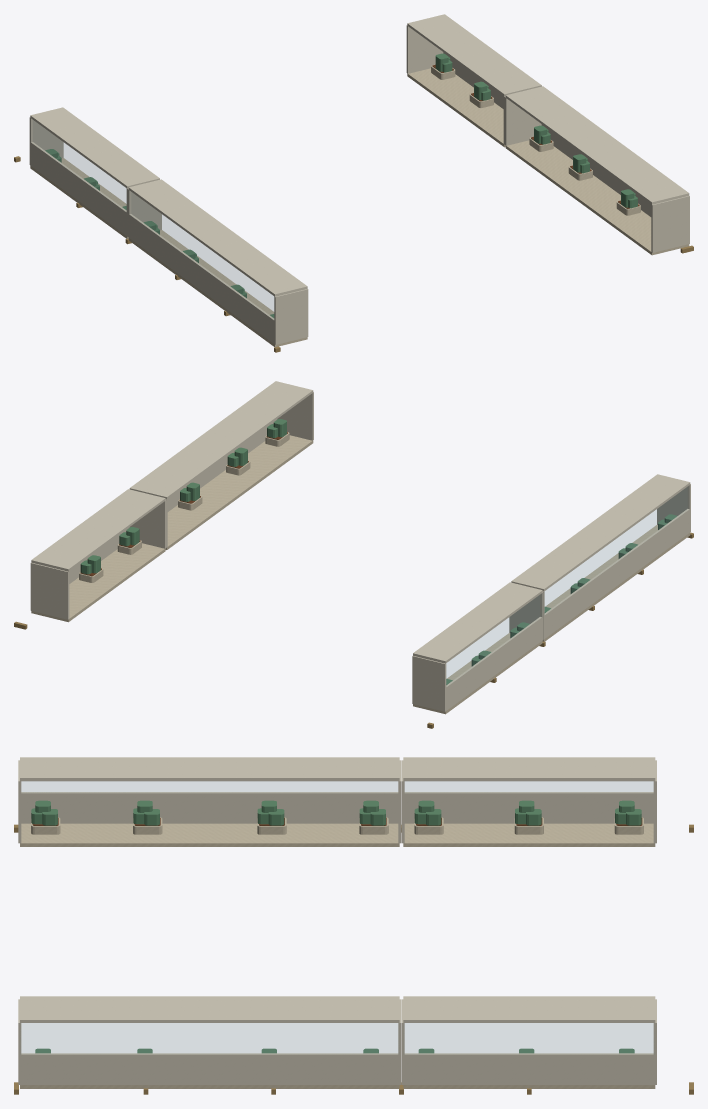
The model's file is D04_STARBOARD_NORTH_COURTSANDTRANSFER_r001.glb.
3 views of the same model, one above another, from view 1: azimuth 30°, elevation 25°; view 2: azimuth 150°, elevation 25°; view 3: azimuth 270°, elevation 25° (orthographic). The views are drawn at different scales.
Visible parts, largest first — view 1: D04SFH_D04HC5_west_Roof, D04SFH_D04HC5_east_Roof, D04SFH_D04HC5_west_Floor, D04SFH_D04HC4_west_Roof, D04SFH_D04HC5_east_PrivacyScreen, D04SFH_D04HC4_east_Roof, D04SFH_D04HC5_east_GlassUpper, D04SFH_D04HC4_east_PrivacyScreen, D04SFH_D04HC4_west_Floor, D04SFH_D04HC4_east_GlassUpper, D04SFH_D04HC5_west_End_1, D04SFH_D04HC5_east_End_1 (+8 smaller); view 2: D04SFH_D04HC5_west_Roof, D04SFH_D04HC5_east_Roof, D04SFH_D04HC5_west_Floor, D04SFH_D04HC4_west_Roof, D04SFH_D04HC5_east_PrivacyScreen, D04SFH_D04HC4_east_Roof, D04SFH_D04HC5_east_GlassUpper, D04SFH_D04HC4_west_Floor, D04SFH_D04HC4_east_PrivacyScreen, D04SFH_D04HC4_east_GlassUpper, D04SFH_D04HC4_west_End_0, D04SFH_D04HC4_east_End_0 (+7 smaller); view 3: D04SFH_D04HC5_west_PrivacyScreen, D04SFH_D04HC5_west_GlassUpper, D04SFH_D04HC5_west_Roof, D04SFH_D04HC5_east_PrivacyScreen, D04SFH_D04HC5_east_Roof, D04SFH_D04HC4_west_PrivacyScreen, D04SFH_D04HC5_east_Floor, D04SFH_D04HC4_west_GlassUpper, D04SFH_D04HC4_west_Roof, D04SFH_D04HC4_east_PrivacyScreen, D04SFH_D04HC4_east_Roof, D04SFH_D04HC4_east_Floor (+4 smaller).
Part boxes in pixels (box(x1,y1,x2,y2)): D04SFH_D04HC5_west_Roof: box(505, 86, 689, 204); D04SFH_D04HC5_east_Roof: box(128, 179, 307, 296); D04SFH_D04HC5_west_Floor: box(505, 140, 689, 255); D04SFH_D04HC4_west_Roof: box(407, 14, 541, 96); D04SFH_D04HC5_east_PrivacyScreen: box(128, 214, 274, 344); D04SFH_D04HC4_east_Roof: box(30, 107, 159, 188); D04SFH_D04HC5_east_GlassUpper: box(131, 192, 274, 318); D04SFH_D04HC4_east_PrivacyScreen: box(30, 142, 127, 235); D04SFH_D04HC4_west_Floor: box(407, 68, 505, 147); D04SFH_D04HC4_east_GlassUpper: box(33, 120, 126, 210); D04SFH_D04HC5_west_End_1: box(651, 195, 689, 252); D04SFH_D04HC5_east_End_1: box(274, 289, 308, 344); D04SFH_D04HC5_west_Roof: box(129, 381, 313, 499); D04SFH_D04HC5_east_Roof: box(511, 474, 690, 591); D04SFH_D04HC5_west_Floor: box(165, 435, 313, 549); D04SFH_D04HC4_west_Roof: box(31, 489, 165, 571); D04SFH_D04HC5_east_PrivacyScreen: box(544, 509, 689, 638); D04SFH_D04HC4_east_Roof: box(413, 582, 542, 663); D04SFH_D04HC5_east_GlassUpper: box(544, 487, 687, 612); D04SFH_D04HC4_west_Floor: box(31, 543, 165, 622); D04SFH_D04HC4_east_PrivacyScreen: box(445, 617, 542, 710); D04SFH_D04HC4_east_GlassUpper: box(446, 595, 540, 684); D04SFH_D04HC4_west_End_0: box(30, 562, 69, 619); D04SFH_D04HC4_east_End_0: box(412, 656, 446, 711); D04SFH_D04HC5_west_PrivacyScreen: box(20, 1053, 399, 1084); D04SFH_D04HC5_west_GlassUpper: box(21, 1023, 397, 1053); D04SFH_D04HC5_west_Roof: box(20, 996, 399, 1022); D04SFH_D04HC5_east_PrivacyScreen: box(21, 792, 398, 823); D04SFH_D04HC5_east_Roof: box(20, 757, 399, 781); D04SFH_D04HC4_west_PrivacyScreen: box(403, 1053, 655, 1084); D04SFH_D04HC5_east_Floor: box(20, 823, 399, 846); D04SFH_D04HC4_west_GlassUpper: box(405, 1023, 653, 1053); D04SFH_D04HC4_west_Roof: box(403, 996, 655, 1022); D04SFH_D04HC4_east_PrivacyScreen: box(404, 792, 653, 823); D04SFH_D04HC4_east_Roof: box(403, 757, 655, 781); D04SFH_D04HC4_east_Floor: box(403, 823, 655, 846).
Bounding box in the file's own units: 36.32 × 4.68 × 39.38.
Materials: 6 (4 with a texture image).
